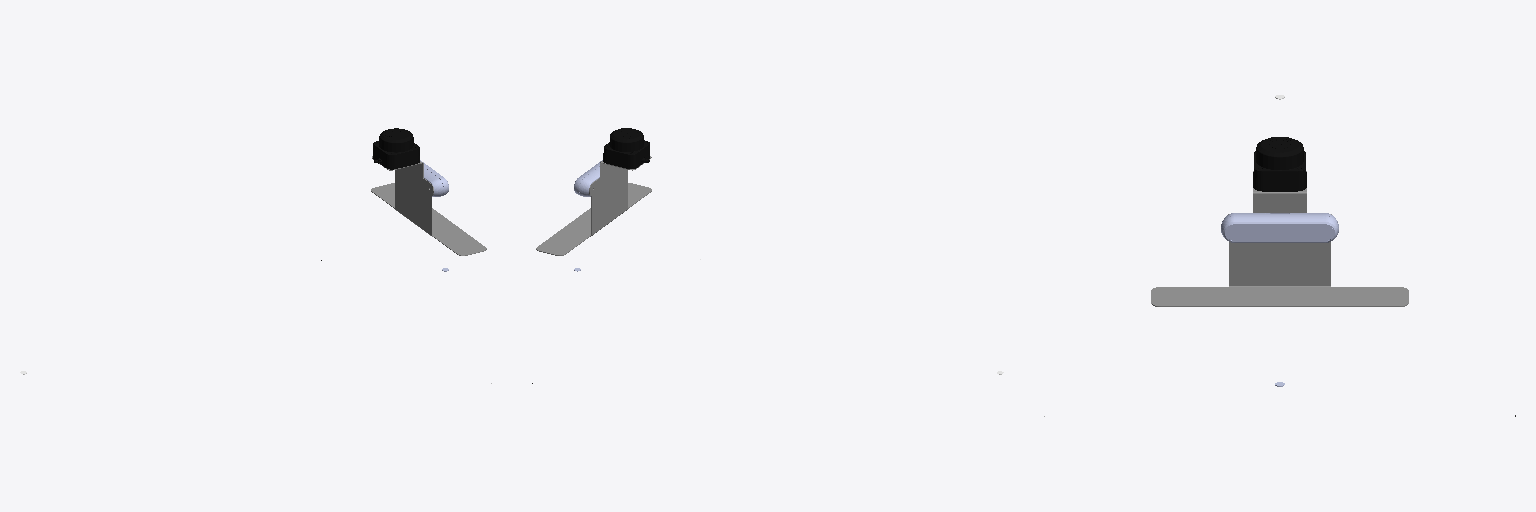
The robot description file, URDF, robot "hunter_se_description":
<?xml version="1.0" encoding="utf-8"?>
<!-- This URDF was automatically created by SolidWorks to URDF Exporter! Originally created by Stephen Brawner (brawner@gmail.com) 
     Commit Version: 1.6.0-1-g15f4949  Build Version: 1.6.7594.29634
     For more information, please see http://wiki.ros.org/sw_urdf_exporter -->
<robot
  name="hunter_se_description">
  <link
    name="base_link">
    <inertial>
      <origin
        xyz="0.0374140021041951 -0.000373005187591258 -0.0771282894414029"
        rpy="0 0 0" />
      <mass
        value="24.73" />
      <inertia
        ixx="0.123215829336501"
        ixy="-2.51201031615063E-06"
        ixz="0.00480100638469038"
        iyy="0.219144715482931"
        iyz="-1.0329581476775E-05"
        izz="0.313606030126045" />
    </inertial>
    <visual>
      <origin
        xyz="0 0 0"
        rpy="0 0 0" />
      <geometry>
        <mesh
          filename="package://hunter_se_description/meshes/base_link.STL" />
      </geometry>
      <material
        name="">
        <color
          rgba="0.752941176470588 0.752941176470588 0.752941176470588 1" />
      </material>
    </visual>
    <!-- bounding box of the chassis mesh (see the wheel collisions) -->
    <collision>
      <origin xyz="0.0808 0 -0.0905" rpy="0 0 0" />
      <geometry>
        <box size="0.7875 0.4618 0.184" />
      </geometry>
    </collision>
  </link>
  <link
    name="fr_steer_left_link">
    <inertial>
      <origin
        xyz="-0.0002776492198312 0.0163539773588368 4.97346169803237E-09"
        rpy="0 0 0" />
      <mass
        value="3.149" />
      <inertia
        ixx="0.0222"
        ixy="0.0"
        ixz="0.0"
        iyy="0.0222"
        iyz="0.0"
        izz="0.0378075" />
    </inertial>
    <visual>
      <origin
        xyz="0 0 0"
        rpy="0 0 0" />
      <geometry>
        <box size="0.001 0.001 0.001"/>
      </geometry>
      <material
        name="">
        <color
          rgba="0.223529411764706 0.223529411764706 0.223529411764706 1" />
      </material>
    </visual>
    <collision>
      <origin
        xyz="0 0 0"
        rpy="0 0 0" />
      <geometry>
        <box size="0.001 0.001 0.001"/>
      </geometry>
    </collision>
  </link>
  <joint
    name="fr_steer_left_joint"
    type="revolute">
    <origin
      xyz="0.34058 0.24619 -0.1535"
      rpy="0 0 0" />
    <parent
      link="base_link" />
    <child
      link="fr_steer_left_link" />
    <axis
      xyz="0 0 1" />
    <limit
      lower="-0.69"
      upper="0.69"
      effort="100"
      velocity="2.0" />
  </joint>
  <link
    name="fr_left_link">
    <inertial>
      <origin
        xyz="-3.5837499634539E-10 4.97346158701006E-09 -0.016356334080185"
        rpy="0 0 0" />
      <mass
        value="3.149" />
      <inertia
        ixx="0.0222"
        ixy="0.0"
        ixz="0.0"
        iyy="0.0222"
        iyz="0.0"
        izz="0.0378075" />
    </inertial>
    <visual>
      <origin
        xyz="0 0 0"
        rpy="0 0 0" />
      <geometry>
        <mesh
          filename="package://hunter_se_description/meshes/fr_left_link.STL" />
      </geometry>
      <material
        name="">
        <color
          rgba="0.223529411764706 0.223529411764706 0.223529411764706 1" />
      </material>
    </visual>
    <!-- cylinder instead of the 20k-triangle wheel mesh: mesh wheels on the
         maize field heightmap ran the simulation at 15 % of real time -->
    <collision>
      <origin xyz="0 0 0" rpy="0 0 0" />
      <geometry>
        <cylinder radius="0.135" length="0.09" />
      </geometry>
    </collision>
  </link>
  <joint
    name="fr_left_joint"
    type="continuous">
    <origin
      xyz="0 0 0"
      rpy="1.5708 0 0.016976" />
    <parent
      link="fr_steer_left_link" />
    <child
      link="fr_left_link" />
    <axis
      xyz="0 0 -1" />
     <dynamics damping="0.0" friction="0.05"/>      
  </joint>
  <link
    name="fr_steer_right_link">
    <inertial>
      <origin
        xyz="0.000274981985673328 -0.0163540222836661 -3.24802407192237E-11"
        rpy="0 0 0" />
      <mass
        value="3.149" />
      <inertia
        ixx="0.0222"
        ixy="0.0"
        ixz="0.0"
        iyy="0.0222"
        iyz="0.0"
        izz="0.0378075" />
    </inertial>
    <visual>
      <origin
        xyz="0 0 0"
        rpy="0 0 0" />
      <geometry>
        <box size="0.001 0.001 0.001"/>
      </geometry>
      <material
        name="">
        <color
          rgba="1 1 1 1" />
      </material>
    </visual>
    <collision>
      <origin
        xyz="0 0 0"
        rpy="0 0 0" />
      <geometry>
        <box size="0.001 0.001 0.001"/>
      </geometry>
    </collision>
  </link>
  <joint
    name="fr_steer_right_joint"
    type="revolute">
    <origin
      xyz="0.34219 -0.24619 -0.1535"
      rpy="0 0 0" />
    <parent
      link="base_link" />
    <child
      link="fr_steer_right_link" />
    <axis
      xyz="0 0 1" />
    <limit
      lower="-0.69"
      upper="0.69"
      effort="100"
      velocity="2.0" />
  </joint>
  <link
    name="fr_right_link">
    <inertial>
      <origin
        xyz="0.00027498198567355 3.24801296969213E-11 -0.0163540222836661"
        rpy="0 0 0" />
      <mass
        value="3.149" />
      <inertia
        ixx="0.0222"
        ixy="0.0"
        ixz="0.0"
        iyy="0.0222"
        iyz="0.0"
        izz="0.0378075" />
    </inertial>
    <visual>
      <origin
        xyz="0 0 0"
        rpy="0 0 0" />
      <geometry>
        <mesh
          filename="package://hunter_se_description/meshes/fr_right_link.STL" />
      </geometry>
      <material
        name="">
        <color
          rgba="0.223529411764706 0.223529411764706 0.223529411764706 1" />
      </material>
    </visual>
    <!-- cylinder instead of the 20k-triangle wheel mesh: mesh wheels on the
         maize field heightmap ran the simulation at 15 % of real time -->
    <collision>
      <origin xyz="0 0 0" rpy="0 0 0" />
      <geometry>
        <cylinder radius="0.135" length="0.09" />
      </geometry>
    </collision>
  </link>
  <joint
    name="fr_right_joint"
    type="continuous">
    <origin
      xyz="0 0 0"
      rpy="-1.5708 0 0" />
    <parent
      link="fr_steer_right_link" />
    <child
      link="fr_right_link" />
    <axis
      xyz="0 0 1" />
    <dynamics damping="0.0" friction="0.05"/>
  </joint>

  <link
    name="re_left_link">
    <inertial>
      <origin
        xyz="1.245E-09 1.7252E-06 -0.010284"
        rpy="0 0 0" />
      <mass
        value="3.149" />
      <inertia
        ixx="0.0222"
        ixy="0.0"
        ixz="0.0"
        iyy="0.0222"
        iyz="0.0"
        izz="0.0378075" />
    </inertial>
    <visual>
      <origin
        xyz="0 0 0"
        rpy="0 0 0" />
      <geometry>
        <mesh
          filename="package://hunter_se_description/meshes/re_left_link.STL" />
      </geometry>
      <material
        name="">
        <color
          rgba="0.37647 0.37647 0.37647 1" />
      </material>
    </visual>
    <!-- cylinder instead of the 20k-triangle wheel mesh: mesh wheels on the
         maize field heightmap ran the simulation at 15 % of real time -->
    <collision>
      <origin xyz="0 0 0" rpy="0 0 0" />
      <geometry>
        <cylinder radius="0.135" length="0.09" />
      </geometry>
    </collision>
  </link>
  <joint
    name="re_left_joint"
    type="continuous">
    <origin
      xyz="-0.2078 0.252 -0.158"
      rpy="1.5708 0 0" />
    <parent
      link="base_link" />
    <child
      link="re_left_link" />
    <axis
      xyz="0 0 -1" />
    <dynamics damping="0.0" friction="0.05"/>
  </joint>
  <link
    name="re_right_link">
    <inertial>
      <origin
        xyz="0 0 0"
        rpy="0 0 0" />
      <mass
        value="3.149" />
      <inertia
        ixx="0.0222"
        ixy="0.0"
        ixz="0.0"
        iyy="0.0222"
        iyz="0.0"
        izz="0.0378075" />
    </inertial>
    <visual>
      <origin
        xyz="0 0 0"
        rpy="0 0 0" />
      <geometry>
        <mesh
          filename="package://hunter_se_description/meshes/re_right_link.STL" />
      </geometry>
      <material
        name="">
        <color
          rgba="1 1 1 1" />
      </material>
    </visual>
    <!-- cylinder instead of the 20k-triangle wheel mesh: mesh wheels on the
         maize field heightmap ran the simulation at 15 % of real time -->
    <collision>
      <origin xyz="0 0 0" rpy="0 0 0" />
      <geometry>
        <cylinder radius="0.135" length="0.09" />
      </geometry>
    </collision>
  </link>
  <joint
    name="re_right_joint"
    type="continuous">
    <origin
      xyz="-0.2078 -0.252 -0.158"
      rpy="-1.5708 0 0" />
    <parent
      link="base_link" />
    <child
      link="re_right_link" />
    <axis
      xyz="0 0 1" />
    <dynamics damping="0.0" friction="0.05"/>
  </joint>

  <link
    name="front_steer_link">
    <inertial>
      <origin
        xyz="0.049836 8.1046E-15 0.017912"
        rpy="0 0 0" />
      <mass
        value="0.0049179" />
      <inertia
        ixx="1.6846E-07"
        ixy="7.6396E-23"
        ixz="-1.0974E-08"
        iyy="7.549E-07"
        iyz="-1.8957E-22"
        izz="7.334E-07" />
    </inertial>
    <visual>
      <origin
        xyz="0 0 0"
        rpy="0 0 0" />
      <geometry>
      <cylinder length="0.001" radius="0.005"/>
      </geometry>
      <material
        name="">
        <color
          rgba="0.79216 0.81961 0.93333 1" />
      </material>
    </visual>
    <collision>
      <origin
        xyz="0 0 0"
        rpy="0 0 0" />
      <geometry>
      <cylinder length="0.001" radius="0.005"/>
      </geometry>
    </collision>
  </link>
  <joint
    name="front_steer_joint"
    type="revolute">
    <origin
      xyz="0.40792 -1.1431E-05 -0.085581"
      rpy="0 0 0" />
    <parent
      link="base_link" />
    <child
      link="front_steer_link" />
    <axis
      xyz="0 0 1" />
    <limit
      lower="-0.72"
      upper="0.72"
      effort="0"
      velocity="0" />
  </joint>
  <link
    name="rear_wheel_link">
    <inertial>
      <origin
        xyz="-0.02 0.0031269 -0.12735"
        rpy="0 0 0" />
      <mass
        value="0.0049179" />
      <inertia
        ixx="1.1821E-06"
        ixy="9.6965E-13"
        ixz="-3.1553E-12"
        iyy="9.5276E-07"
        iyz="1.2428E-08"
        izz="1.0913E-06" />
    </inertial>
    <visual>
      <origin
        xyz="0 0 0"
        rpy="0 0 0" />
      <geometry>
      <cylinder length="0.001" radius="0.005"/>
      </geometry>
      <material
        name="">
        <color
          rgba="1 1 1 1" />
      </material>
    </visual>
    <collision>
      <origin
        xyz="0 0 0"
        rpy="0 0 0" />
      <geometry>
      <cylinder length="0.001" radius="0.005"/>
      </geometry>
    </collision>
  </link>
  <joint
    name="rear_wheel_joint"
    type="continuous">
    <origin
      xyz="-0.30408 -1.1431E-05 -0.085581"
      rpy="0.0032313 0 0" />
    <parent
      link="base_link" />
    <child
      link="rear_wheel_link" />
    <axis
      xyz="0 0 1" />
  </joint>
  
  
  

  <!-- Lidar + camera mount (Onshape export, onshape-to-robot).
       In the mounting_plate frame the bracket is 0.27 m wide along X, the
       camera faces -Y and Z is up. sensor_mount_joint yaws it by 90 deg so the
       camera faces robot +X, centres it on y=0 and rests the plate on the top
       deck (z=0.0015). Change the joint x to slide the mount along the deck. -->
  <joint name="sensor_mount_joint" type="fixed">
    <origin xyz="0.355 0.103849 -0.089" rpy="0 0 1.5708" />
    <parent link="base_link" />
    <child link="mounting_plate" />
  </joint>
  <link name="mounting_plate">
    <inertial>
      <origin xyz="-0.103827 0.0050822 0.16024" rpy="0 0 0" />
      <mass value="0.36749" />
      <inertia ixx="0.00134227" ixy="1.03252e-07" ixz="-1.2342e-08" iyy="0.00184516" iyz="-0.000424489" izz="0.00100517" />
    </inertial>
    <!-- Part rplidar_c1_1__body1 -->
    <visual>
      <origin xyz="-0.103849 0.0303506 0.200463" rpy="1.5708 0 0" />
      <geometry>
        <mesh filename="package://hunter_se_description/meshes/rplidar_c1_1__body1.stl" />
      </geometry>
      <material name="rplidar_c1_1__body1_material">
        <color rgba="0.1 0.1 0.1 1" />
      </material>
    </visual>
    <collision>
      <origin xyz="-0.103849 0.0303506 0.2211" rpy="0 0 0" />
      <geometry>
        <cylinder radius="0.028" length="0.0413" />
      </geometry>
    </collision>
    <!-- Part realsense_camera -->
    <visual>
      <origin xyz="-0.254685 0.920052 0.165463" rpy="1.5708 0 0" />
      <geometry>
        <mesh filename="package://hunter_se_description/meshes/realsense_camera.stl" />
      </geometry>
      <material name="realsense_camera_material">
        <color rgba="0.792157 0.819608 0.933333 1" />
      </material>
    </visual>
    <collision>
      <origin xyz="-0.1038 -0.0124 0.1655" rpy="0 0 0" />
      <geometry>
        <box size="0.124 0.0261 0.029" />
      </geometry>
    </collision>
    <!-- Part mounting_plate -->
    <visual>
      <origin xyz="-0.103849 -0.0233904 0.0904633" rpy="0 0 0" />
      <geometry>
        <mesh filename="package://hunter_se_description/meshes/mounting_plate.stl" />
      </geometry>
      <material name="mounting_plate_material">
        <color rgba="0.627451 0.627451 0.627451 1" />
      </material>
    </visual>
    <collision>
      <origin xyz="-0.1038 0.0049 0.1455" rpy="0 0 0" />
      <geometry>
        <box size="0.27 0.1065 0.11" />
      </geometry>
    </collision>
  </link>

  <!-- Sensor frames (x forward, z up), estimated from the mesh bounding boxes:
       laser sits on the lidar spin axis about 31 mm above its base,
       camera_link at the centre of the camera front face. -->
  <link name="laser" />
  <joint name="laser_joint" type="fixed">
    <origin xyz="-0.103849 0.0303506 0.2315" rpy="0 0 -1.5708" />
    <parent link="mounting_plate" />
    <child link="laser" />
  </joint>
  <link name="camera_link" />
  <joint name="camera_joint" type="fixed">
    <origin xyz="-0.103849 -0.0255 0.1655" rpy="0 0 -1.5708" />
    <parent link="mounting_plate" />
    <child link="camera_link" />
  </joint>
  <!-- ROS optical convention: z forward, x right, y down -->
  <link name="camera_optical_frame" />
  <joint name="camera_optical_joint" type="fixed">
    <origin xyz="0 0 0" rpy="-1.5708 0 -1.5708" />
    <parent link="camera_link" />
    <child link="camera_optical_frame" />
  </joint>

    <gazebo reference="fr_left_link"> 
    <mu1>0.8</mu1>
    <mu2>0.8</mu2>
    <kp>500000.0</kp>
    <kd>10.0</kd>
    <minDepth>0.001</minDepth>
    <maxVel>0.1</maxVel>
      <material>Gazebo/Grey </material>
      </gazebo>
  <gazebo reference="fr_right_link"> 
      <mu1>0.8</mu1>
    <mu2>0.8</mu2>
    <kp>500000.0</kp>
    <kd>10.0</kd>
    <minDepth>0.001</minDepth>
    <maxVel>0.1</maxVel>
      <material>Gazebo/Grey </material>
      </gazebo>
  <gazebo reference="re_left_link"> 
      <mu1>0.8</mu1>
    <mu2>10</mu2>
    <kp>500000.0</kp>
    <kd>10.0</kd>
    <minDepth>0.001</minDepth>
    <maxVel>0.1</maxVel>
      <material>Gazebo/Grey </material>
      </gazebo>
  <gazebo reference="re_right_link"> 
      <mu1>0.8</mu1>
    <mu2>10</mu2>
    <kp>500000.0</kp>
    <kd>10.0</kd>
    <minDepth>0.001</minDepth>
    <maxVel>0.1</maxVel>
      <material>Gazebo/Grey </material>
      </gazebo>

  <!-- Simulated sensors for Gazebo Harmonic (gz sim). They need the
       gz-sim-sensors-system plugin in the world, see worlds/sensor_test.sdf. -->
  <!-- RPLidar C1: 360 deg, 10 Hz, 0.05-12 m, 0.72 deg angular resolution -->
  <gazebo reference="laser">
    <sensor name="rplidar_c1" type="gpu_lidar">
      <topic>scan</topic>
      <gz_frame_id>laser</gz_frame_id>
      <update_rate>10</update_rate>
      <always_on>true</always_on>
      <visualize>true</visualize>
      <lidar>
        <scan>
          <horizontal>
            <samples>500</samples>
            <resolution>1</resolution>
            <min_angle>-3.14159</min_angle>
            <max_angle>3.14159</max_angle>
          </horizontal>
        </scan>
        <range>
          <min>0.05</min>
          <max>12.0</max>
          <resolution>0.01</resolution>
        </range>
        <noise>
          <type>gaussian</type>
          <mean>0.0</mean>
          <stddev>0.01</stddev>
        </noise>
      </lidar>
    </sensor>
  </gazebo>

  <!-- IMU at base_link, 100 Hz. Gives the row-following MPC a slip-free
       heading and a tilt reading. -->
  <gazebo reference="base_link">
    <sensor name="imu" type="imu">
      <topic>imu</topic>
      <gz_frame_id>base_link</gz_frame_id>
      <update_rate>100</update_rate>
      <always_on>true</always_on>
    </sensor>
  </gazebo>

  <!-- RealSense-style RGB-D camera: 640x480 @ 30 Hz, 69 deg horizontal FOV -->
  <gazebo reference="camera_link">
    <sensor name="realsense" type="rgbd_camera">
      <topic>camera</topic>
      <!-- Gazebo stamps every topic of this sensor with this frame. That is
           right for the images and camera_info, but not for the camera/points
           cloud Gazebo also publishes (it is x-forward), so that one is not
           bridged to ROS. -->
      <gz_frame_id>camera_optical_frame</gz_frame_id>
      <update_rate>30</update_rate>
      <always_on>true</always_on>
      <camera>
        <horizontal_fov>1.2043</horizontal_fov>
        <image>
          <width>640</width>
          <height>480</height>
          <format>R8G8B8</format>
        </image>
        <clip>
          <near>0.1</near>
          <far>10.0</far>
        </clip>
      </camera>
    </sensor>
  </gazebo>

  <!-- Drive for Gazebo Harmonic (gz sim): rear-wheel drive with front
       Ackermann steering, commanded on cmd_vel. Replaces the Gazebo Classic
       gazebo_ros_control plugin of the upstream file. -->
  <gazebo>
    <plugin filename="gz-sim-ackermann-steering-system" name="gz::sim::systems::AckermannSteering">
      <left_joint>re_left_joint</left_joint>
      <right_joint>re_right_joint</right_joint>
      <left_steering_joint>fr_steer_left_joint</left_steering_joint>
      <right_steering_joint>fr_steer_right_joint</right_steering_joint>
      <kingpin_width>0.49238</kingpin_width>
      <steering_limit>0.52</steering_limit>
      <wheel_base>0.548</wheel_base>
      <wheel_separation>0.504</wheel_separation>
      <wheel_radius>0.135</wheel_radius>
      <min_velocity>-4.8</min_velocity>
      <max_velocity>4.8</max_velocity>
      <min_acceleration>-3.0</min_acceleration>
      <max_acceleration>3.0</max_acceleration>
      <topic>cmd_vel</topic>
      <odom_topic>odom</odom_topic>
      <tf_topic>tf</tf_topic>
      <frame_id>odom</frame_id>
      <child_frame_id>base_link</child_frame_id>
      <odom_publish_frequency>50</odom_publish_frequency>
    </plugin>
    <plugin filename="gz-sim-imu-system" name="gz::sim::systems::Imu" />
    <plugin filename="gz-sim-joint-state-publisher-system" name="gz::sim::systems::JointStatePublisher">
      <topic>joint_states</topic>
    </plugin>
  </gazebo>

</robot>

--- Facts derived from the render (not from the file) ---
Views: 3 orthographic renders of the robot side by side, from view 1: azimuth 30°, elevation 25°; view 2: azimuth 150°, elevation 25°; view 3: azimuth 270°, elevation 25°.
Robot: hunter_se_description — 13 links, 12 joints (3 revolute, 5 continuous, 4 fixed); root link base_link; default pose: all joints at 0.
Links seen in each view (by area): view 1: mounting_plate; view 2: mounting_plate; view 3: mounting_plate.
Boxes of the visible links, left/top/right/bottom form: mounting_plate: left=371, top=128, right=486, bottom=255; mounting_plate: left=536, top=128, right=651, bottom=255; mounting_plate: left=1151, top=137, right=1408, bottom=306.
Size in the robot's own frame: 0.722 by 0.4934 by 0.3068 metres.
3 mesh visuals loaded from 8 distinct referenced files (3 binary STL); not drawn: 5 (reference not matched to a file when rendering).
